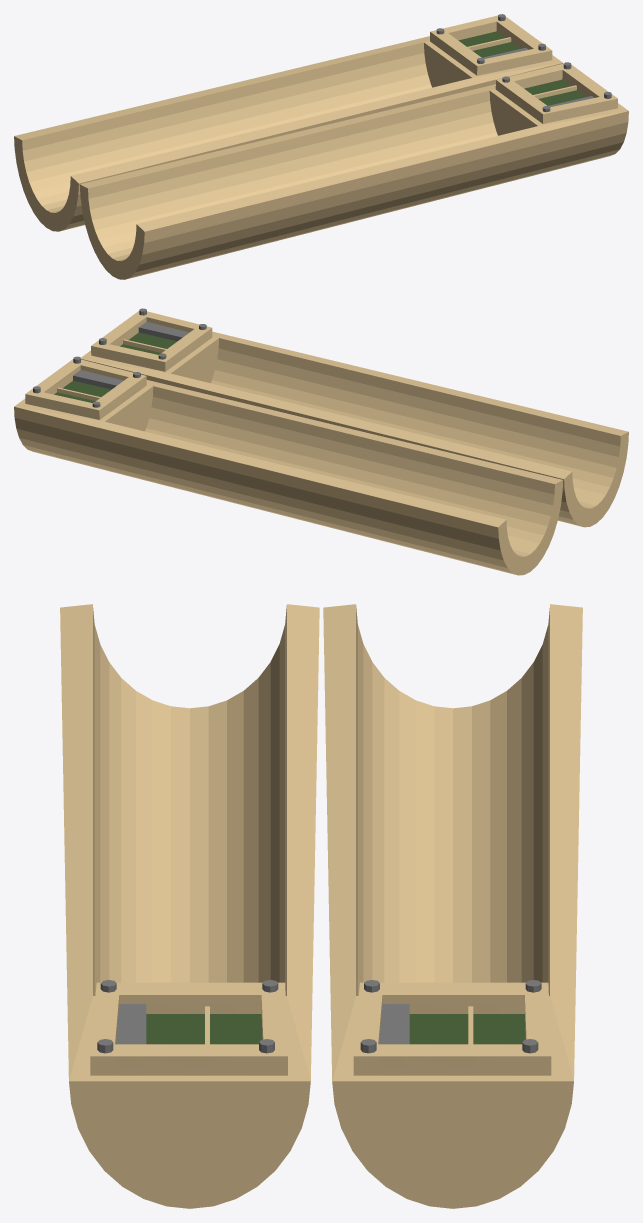
File: rocketlauncher_test1_level2.fbx
3 renders of one model, top to bottom at view 1: azimuth 30°, elevation 25°; view 2: azimuth 150°, elevation 25°; view 3: azimuth 270°, elevation 25°, orthographic. The views are drawn at different scales.
Visible parts, largest first — view 1: rocket.001, rocket; view 2: rocket, rocket.001; view 3: rocket, rocket.001.
Part boxes in pixels (box(x1,y1,x2,y2)): rocket.001: box(80, 63, 628, 279); rocket: box(14, 15, 562, 231); rocket: box(14, 359, 562, 575); rocket.001: box(81, 311, 628, 527); rocket: box(323, 604, 582, 1208); rocket.001: box(60, 604, 319, 1208).
Size of the model in its own units: 77.53 by 12.52 by 36.08.
